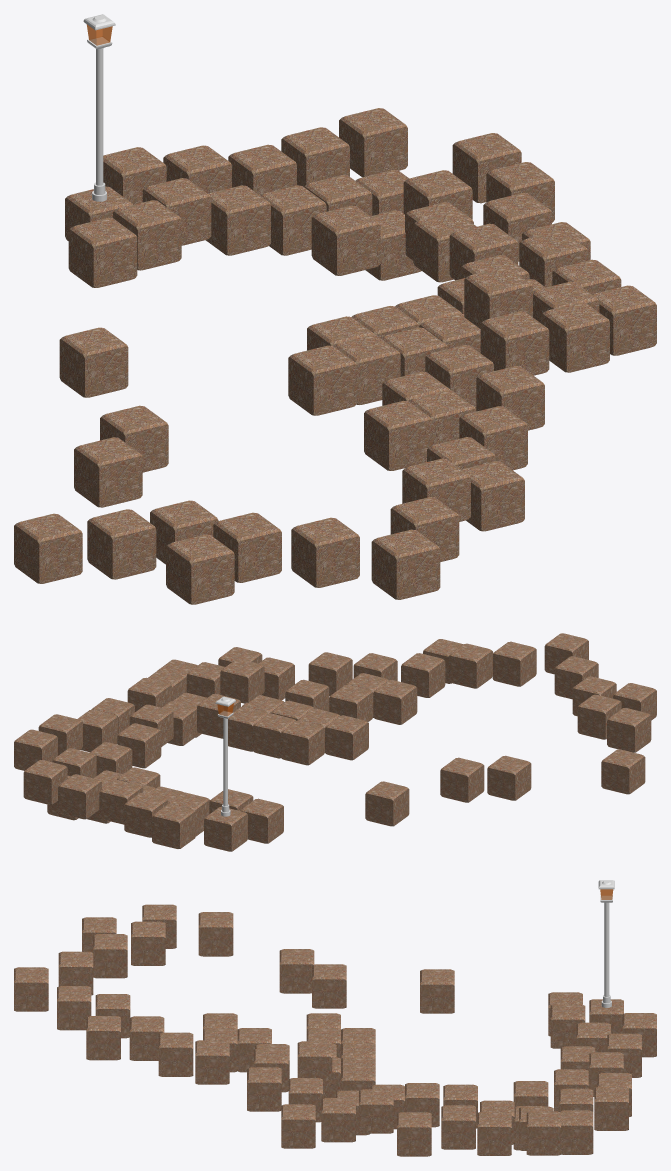
The model's file is Floating.fbx.
3 views of the same model, one above another, from view 1: azimuth 30°, elevation 25°; view 2: azimuth 150°, elevation 25°; view 3: azimuth 270°, elevation 25° (orthographic). The views are drawn at different scales.
Parts seen in each view (by area): view 1: Ground 3.049, Ground 3.024, Ground 3.046, Ground 2.006, Ground 2.007, Ground 3.071, Ground 3.070, Ground 3.047, Ground 3.066, Ground 3.048, Ground 3.039, Ground 2.031 (+46 smaller); view 2: Ground 3.045, Ground 3.046, Ground 3.031, Ground 3.048, Ground 3.047, Ground 3.039, Ground 3.049, Ground 3.024, Ground 3.015, Ground 3.030, Ground 2.016, Ground 2.019 (+43 smaller); view 3: Ground 2.022, Ground 3.036, Ground 3.048, Ground 2.024, Ground 2.025, Ground 2.028, Ground 3.045, Ground 2.026, Ground 2.031, Ground 3.035, Ground 3.042, Ground 3.046 (+44 smaller).
Boxes of the visible parts, left/top/right/bottom form: Ground 3.049: left=87, top=509, right=156, bottom=579; Ground 3.024: left=288, top=345, right=357, bottom=415; Ground 3.046: left=59, top=327, right=128, bottom=397; Ground 2.006: left=311, top=205, right=380, bottom=275; Ground 2.007: left=68, top=217, right=137, bottom=287; Ground 3.071: left=371, top=529, right=440, bottom=599; Ground 3.070: left=291, top=517, right=359, bottom=587; Ground 3.047: left=74, top=437, right=142, bottom=507; Ground 3.066: left=166, top=534, right=234, bottom=604; Ground 3.048: left=14, top=513, right=82, bottom=583; Ground 3.039: left=364, top=400, right=432, bottom=470; Ground 2.031: left=541, top=302, right=609, bottom=372; Ground 3.045: left=440, top=757, right=484, bottom=802; Ground 3.046: left=365, top=781, right=409, bottom=826; Ground 3.031: left=448, top=643, right=492, bottom=688; Ground 3.048: left=601, top=749, right=645, bottom=794; Ground 3.047: left=487, top=755, right=531, bottom=800; Ground 3.039: left=373, top=680, right=417, bottom=724; Ground 3.049: left=607, top=708, right=651, bottom=752; Ground 3.024: left=325, top=715, right=368, bottom=760; Ground 3.015: left=281, top=720, right=324, bottom=765; Ground 3.030: left=492, top=641, right=536, bottom=686; Ground 2.016: left=152, top=804, right=195, bottom=848; Ground 2.019: left=58, top=774, right=101, bottom=819; Ground 2.022: left=526, top=1111, right=561, bottom=1155; Ground 3.036: left=158, top=1032, right=193, bottom=1076; Ground 3.048: left=198, top=912, right=233, bottom=956; Ground 2.024: left=441, top=1105, right=475, bottom=1149; Ground 2.025: left=397, top=1112, right=431, bottom=1156; Ground 2.028: left=281, top=1104, right=315, bottom=1148; Ground 3.045: left=312, top=964, right=346, bottom=1008; Ground 2.026: left=359, top=1089, right=393, bottom=1133; Ground 2.031: left=247, top=1067, right=281, bottom=1111; Ground 3.035: left=86, top=1016, right=120, bottom=1060; Ground 3.042: left=195, top=1040, right=229, bottom=1084; Ground 3.046: left=420, top=969, right=454, bottom=1013.
Bounding box in the file's own units: 16.55 × 5.86 × 18.62.
4 materials, 2 textured.
